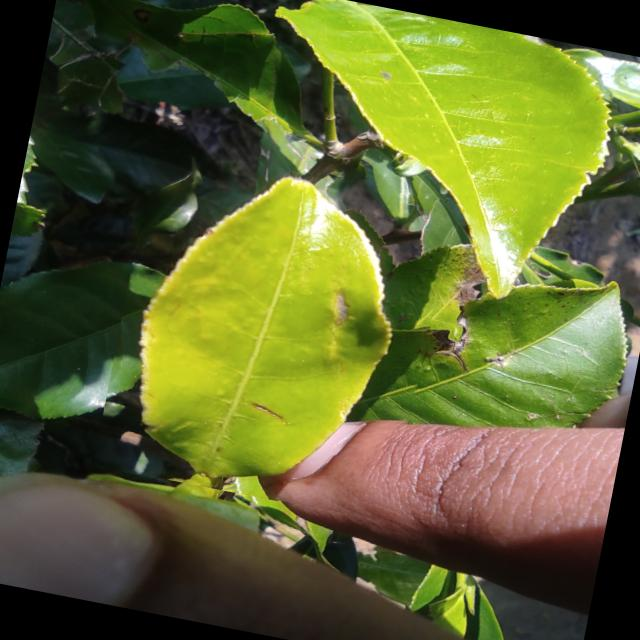Category C(4-7 days): (93, 106, 468, 525)
